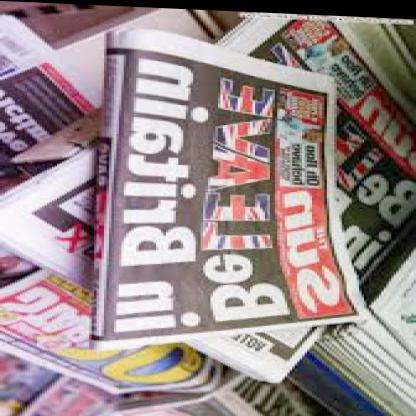Paper: (0, 1, 414, 416)
